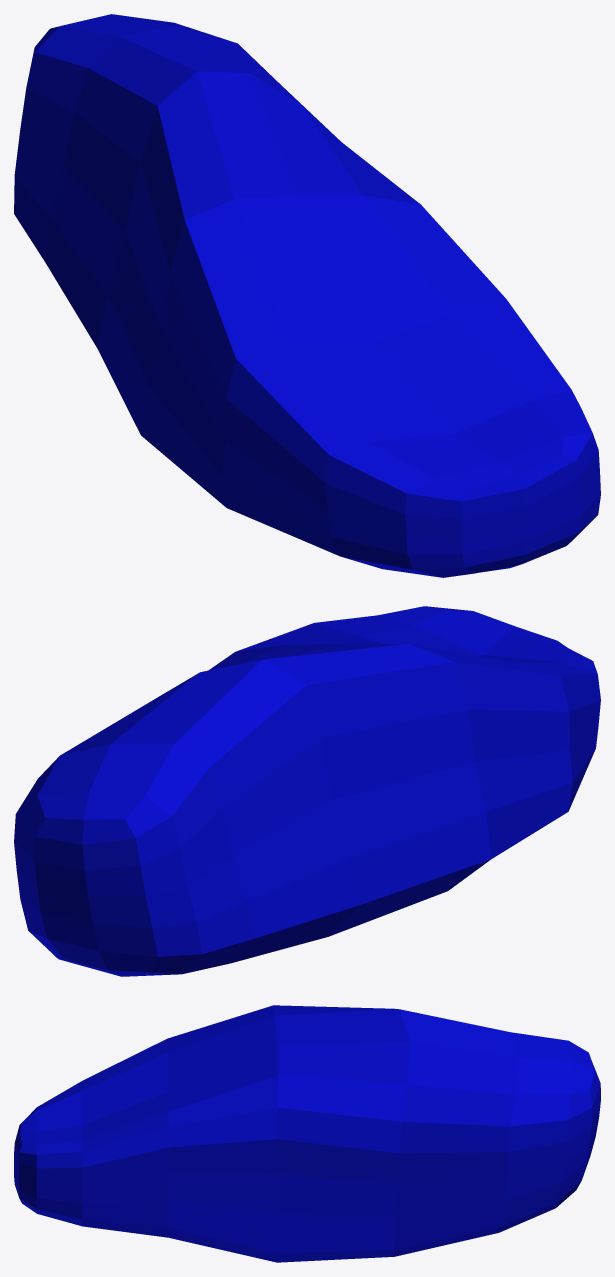
File: piedras_puzzles_azul.fbx
The picture shows the model from 3 angles, top to bottom: view 1: azimuth 30°, elevation 25°; view 2: azimuth 150°, elevation 25°; view 3: azimuth 270°, elevation 25°; orthographic projection. The views are drawn at different scales.
Visible parts, largest first — view 1: piedra2.001; view 2: piedra2.001; view 3: piedra2.001.
Boxes of the visible parts, x1,y1,x2,y2 form: piedra2.001: [14, 14, 600, 577]; piedra2.001: [14, 606, 600, 976]; piedra2.001: [14, 1005, 600, 1262].
Size of the model in its own units: 25.52 by 26.28 by 63.46.
